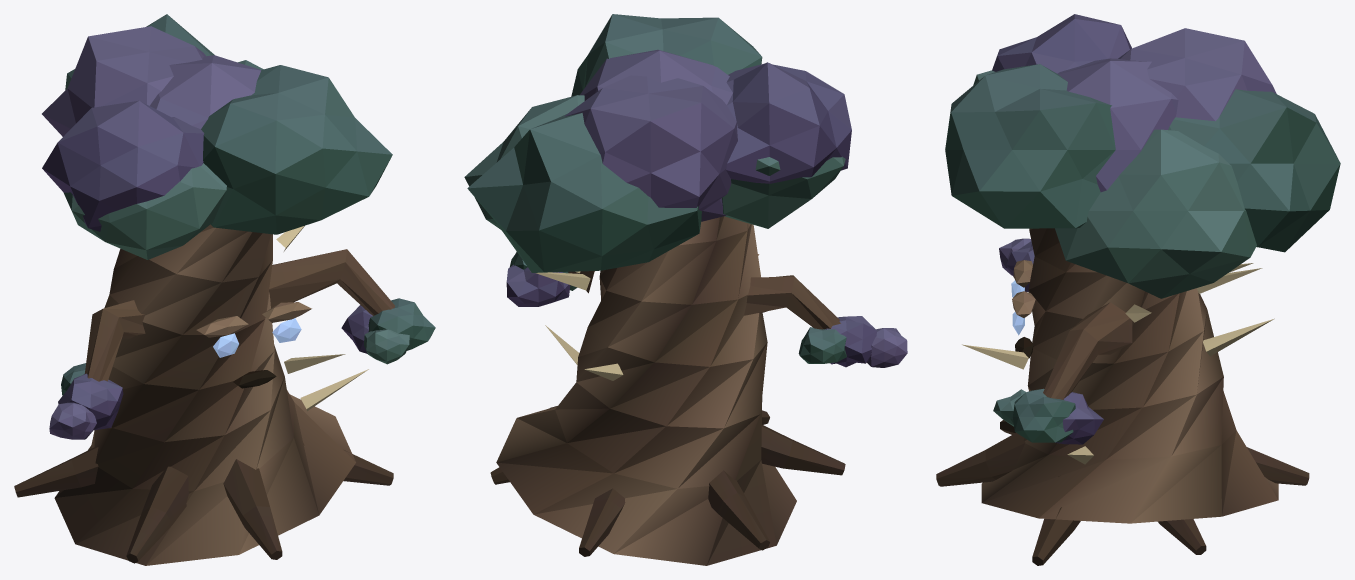
Rendered from dreamb_ancient_war_blue.glb.
3 views of the same model, side by side, from view 1: azimuth 30°, elevation 25°; view 2: azimuth 150°, elevation 25°; view 3: azimuth 270°, elevation 25° (orthographic).
Parts seen in each view (by area): view 1: dreamb_ancient_war_blue_solid, dreamb_ancient_war_blue_leaf, dreamb_ancient_war_blue_glow; view 2: dreamb_ancient_war_blue_solid, dreamb_ancient_war_blue_leaf; view 3: dreamb_ancient_war_blue_leaf, dreamb_ancient_war_blue_solid.
Part boxes in pixels (x1,y1,x2,y2): dreamb_ancient_war_blue_solid: (14, 224, 394, 565); dreamb_ancient_war_blue_leaf: (42, 14, 435, 439); dreamb_ancient_war_blue_glow: (213, 318, 301, 357); dreamb_ancient_war_blue_solid: (490, 216, 845, 565); dreamb_ancient_war_blue_leaf: (464, 14, 907, 367); dreamb_ancient_war_blue_leaf: (945, 14, 1340, 444); dreamb_ancient_war_blue_solid: (936, 228, 1309, 565).
Bounding box in the file's own units: 1.69 × 1.91 × 1.52.
